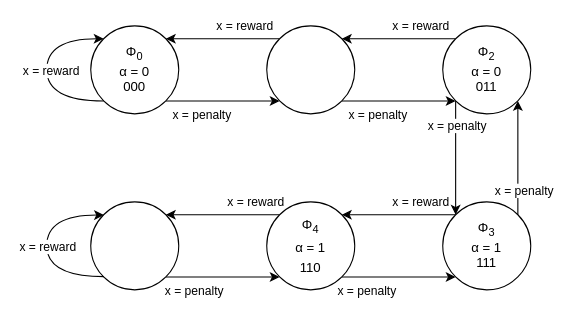
Some shapes in this 573 by 317 pixel diagram are drawn without their labels. Each missing label, with the centre of its shape:
Φ 1 α = 0 001: point (310, 69)
Φ 5 α = 1 100: point (134, 245)
